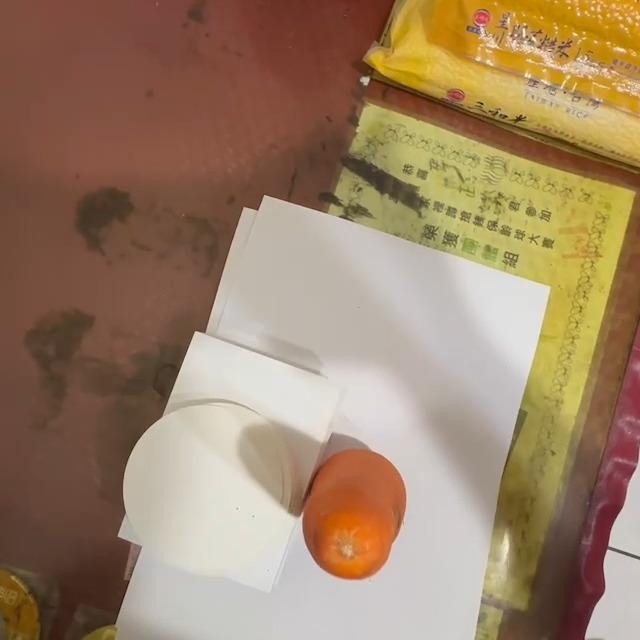carrot: (305, 448, 411, 585)
